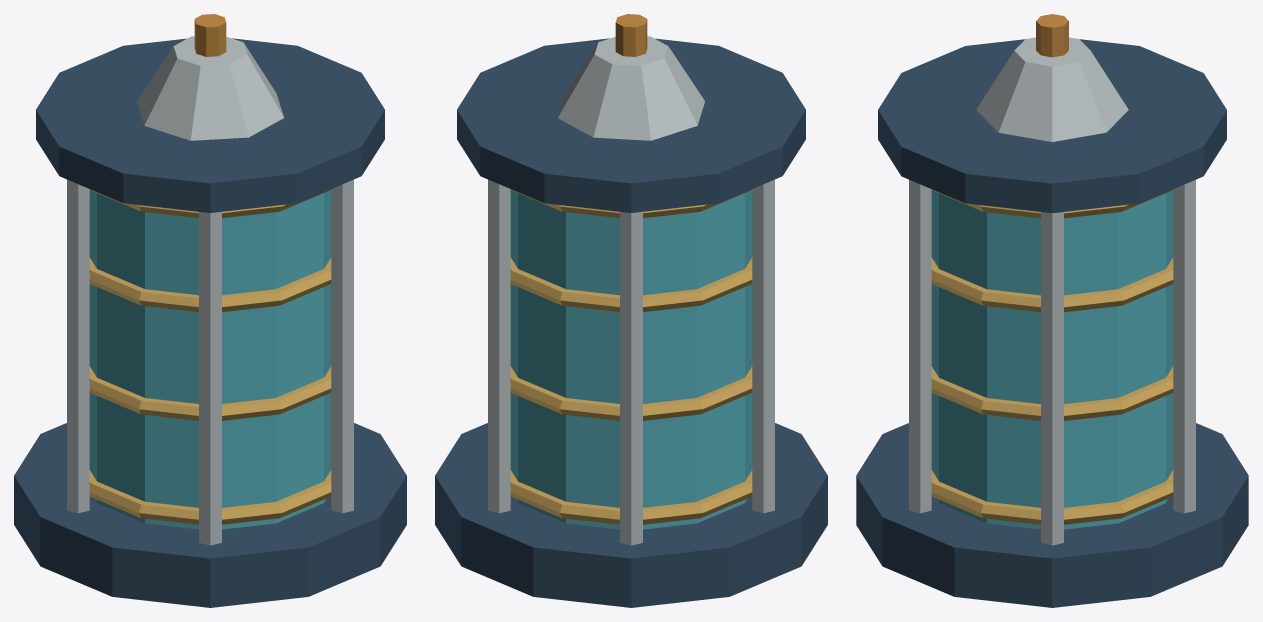
File: SpaceStation_ReactorCore_Showcase.glb
3 renders of one model, left to right at view 1: azimuth 30°, elevation 25°; view 2: azimuth 150°, elevation 25°; view 3: azimuth 270°, elevation 25°, orthographic.
Parts seen in each view (by area): view 1: SpaceStation_ReactorCore_Showcase; view 2: SpaceStation_ReactorCore_Showcase; view 3: SpaceStation_ReactorCore_Showcase.
Part boxes in pixels (x1=…): SpaceStation_ReactorCore_Showcase: x1=14, y1=14, x2=406, y2=607; SpaceStation_ReactorCore_Showcase: x1=435, y1=14, x2=827, y2=607; SpaceStation_ReactorCore_Showcase: x1=856, y1=14, x2=1248, y2=607.
Size of the model in its own units: 3.6 by 5.1 by 3.6.
